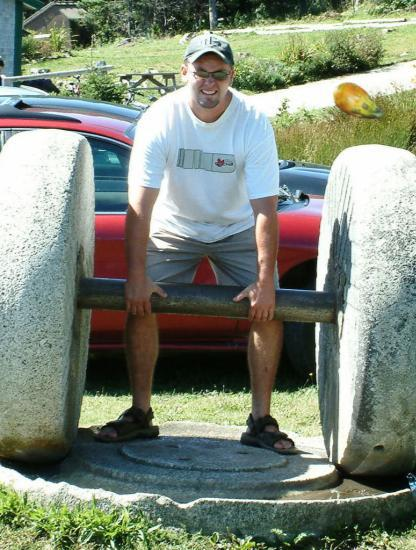Cactus: (330, 74, 388, 132)
